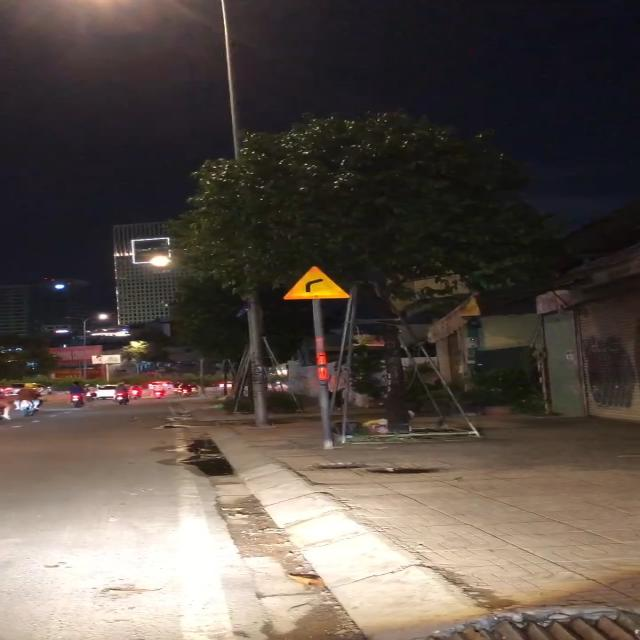Bien bao cho ngoat nguy hiem: (268, 259, 368, 304)
